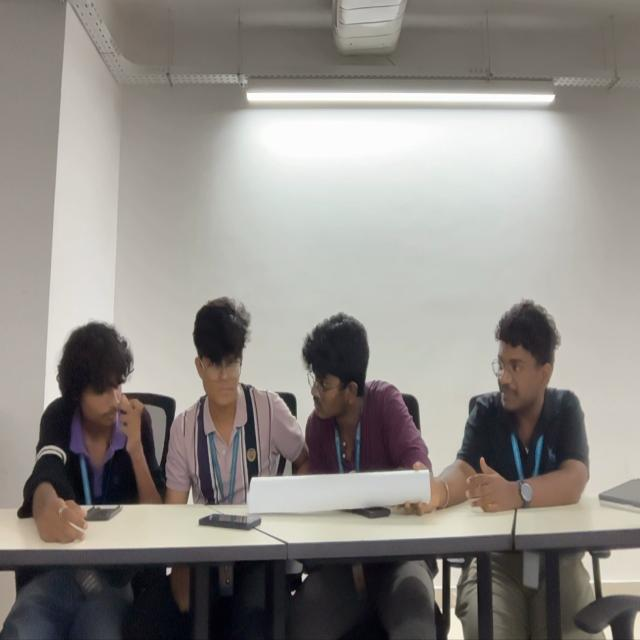Isolated: (456, 300, 587, 506)
socializing: (23, 296, 427, 516)
